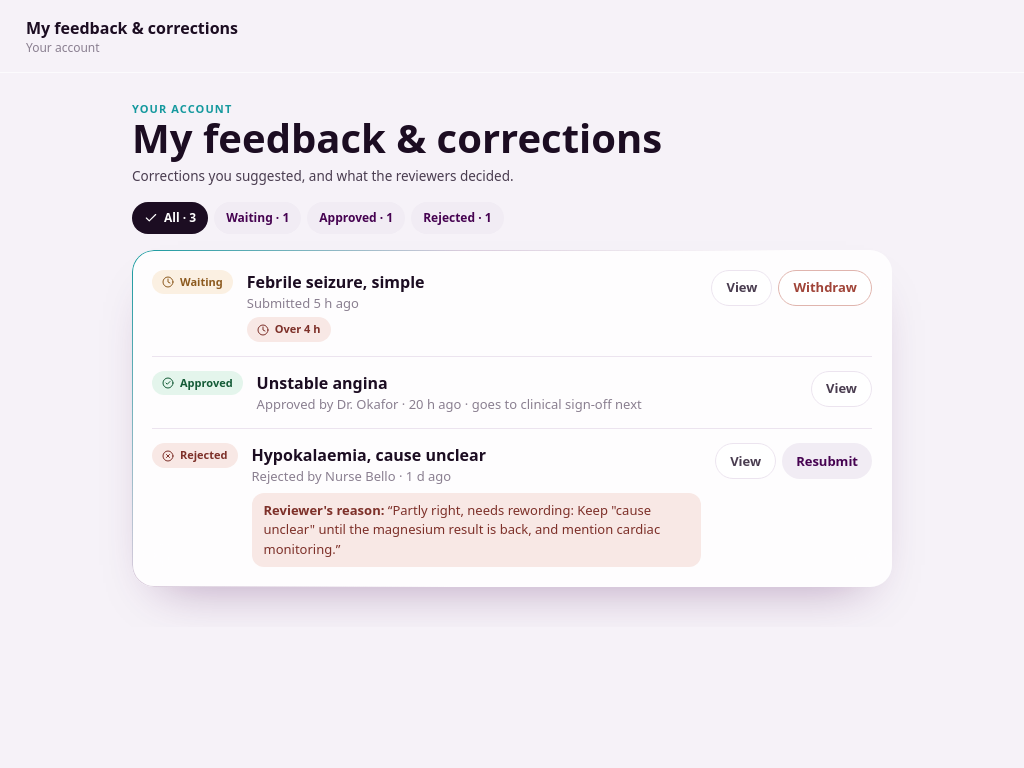
it: MyCorrectionsView › explains when the correction was decided before you withdrew it
Click the button with aria-label "Withdraw: Febrile seizure, simple": click(825, 288) top-left (778, 270), bottom-right (872, 306)
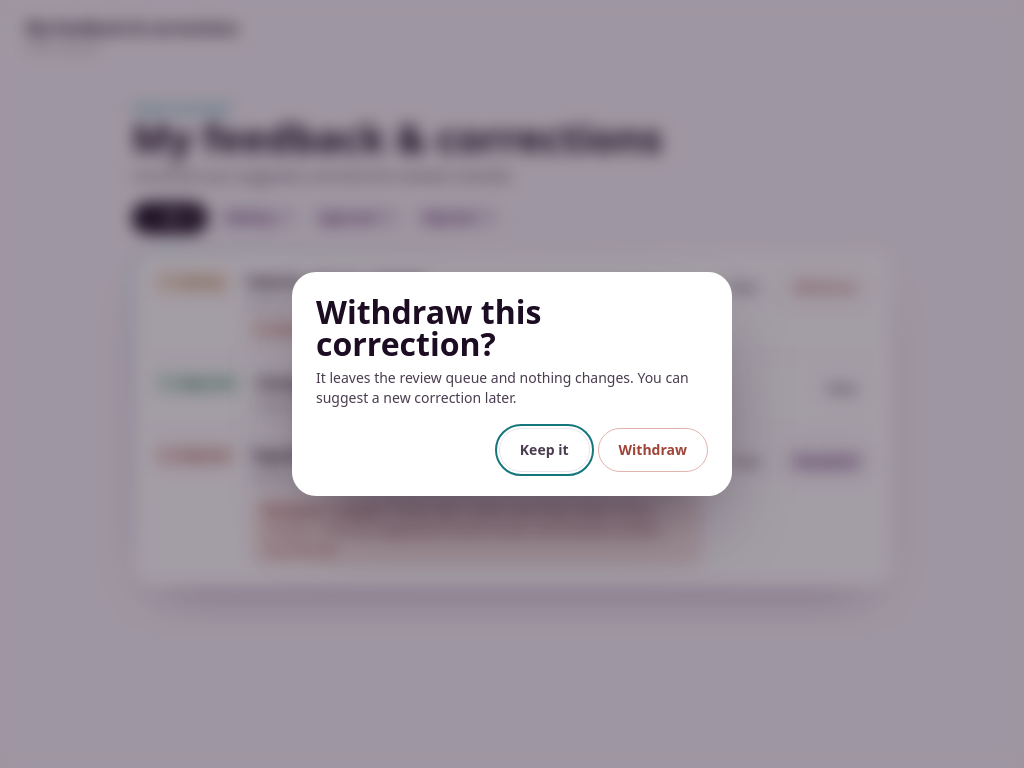
Click the button "Withdraw": click(653, 450) top-left (598, 428), bottom-right (708, 472)
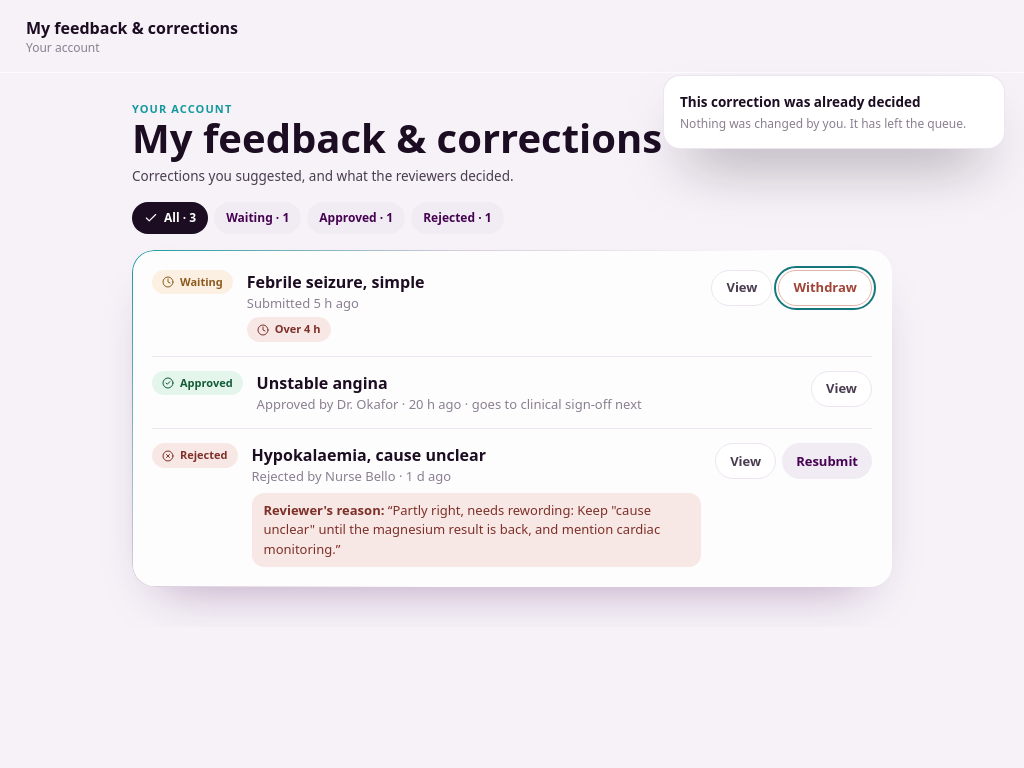
Expected: the text "This correction was already decided" is shown, top-left (680, 93), bottom-right (920, 111)
